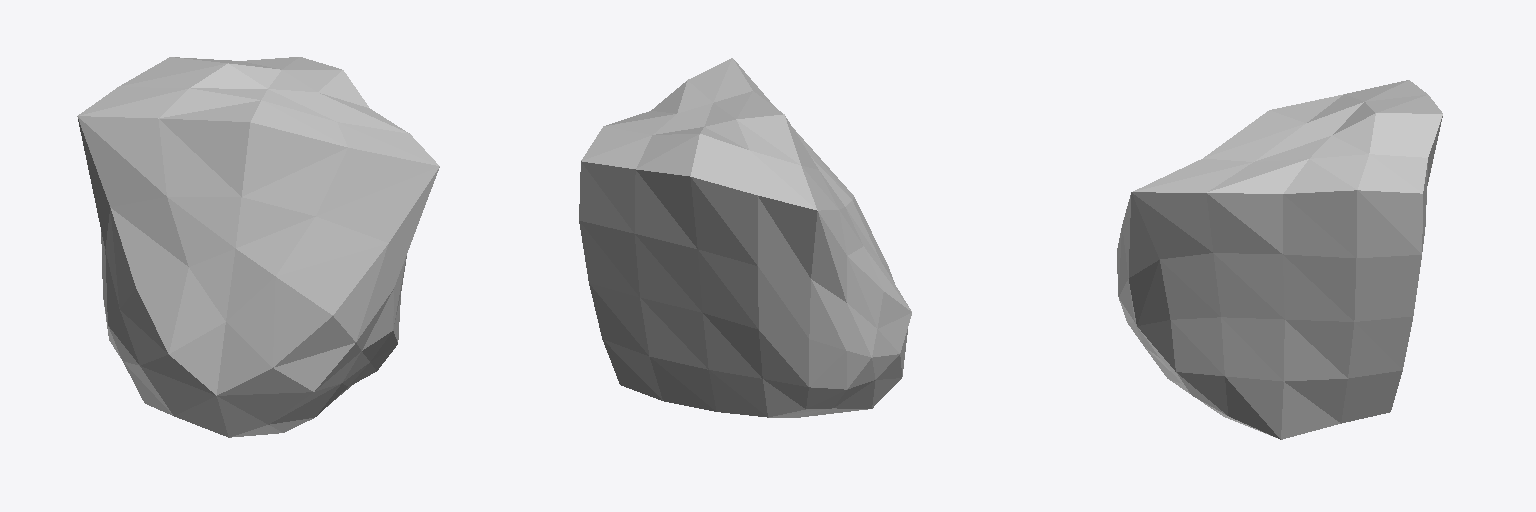
Rendered from Asteroid6.obj.
3 renders of one model, left to right at view 1: azimuth 30°, elevation 25°; view 2: azimuth 150°, elevation 25°; view 3: azimuth 270°, elevation 25°, orthographic.
Visible parts, largest first — view 1: rock.020; view 2: rock.020; view 3: rock.020.
Boxes of the visible parts, x1,y1,x2,y2 form: rock.020: [77, 57, 439, 437]; rock.020: [579, 58, 911, 417]; rock.020: [1117, 80, 1442, 439].
Bounding box in the file's own units: 0.8549 × 0.9896 × 0.9604.